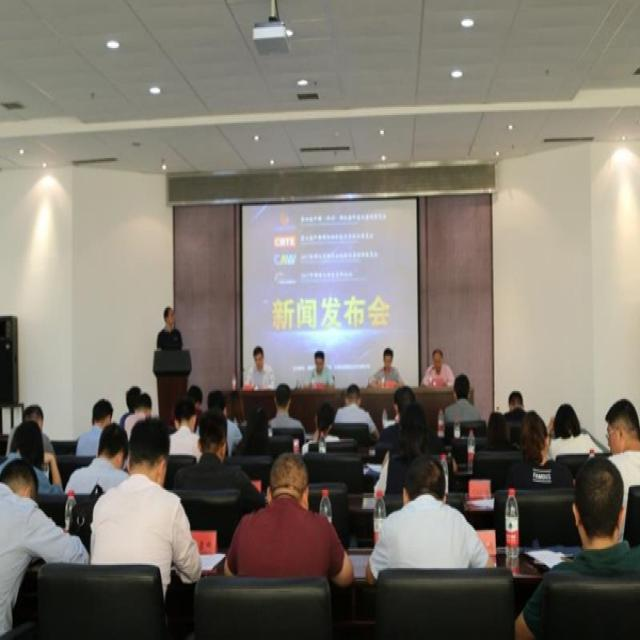body: (513, 455, 640, 640), (88, 418, 202, 603), (221, 448, 357, 589), (364, 453, 497, 589), (0, 455, 92, 640), (170, 407, 268, 530), (498, 409, 576, 493), (372, 400, 432, 502), (602, 396, 640, 546), (0, 418, 65, 498), (63, 420, 131, 496), (4, 400, 57, 480), (193, 384, 244, 464), (546, 402, 602, 463), (163, 394, 205, 471), (332, 382, 382, 444), (299, 399, 342, 458), (232, 405, 278, 460), (74, 396, 114, 456), (380, 383, 417, 441), (443, 372, 480, 426), (267, 381, 306, 431), (122, 392, 154, 443), (244, 343, 278, 391), (419, 346, 457, 388), (370, 345, 407, 386), (501, 385, 530, 437), (154, 304, 184, 354), (116, 383, 143, 436), (307, 348, 336, 388), (182, 381, 206, 423), (487, 409, 502, 445)
